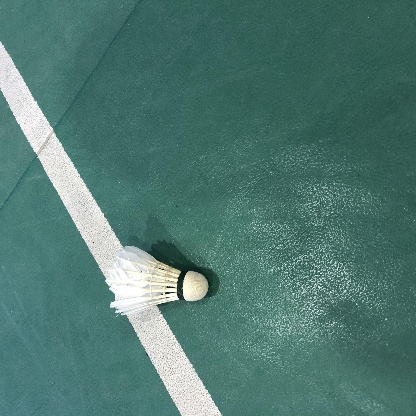ball_single: (105, 246, 209, 316)
